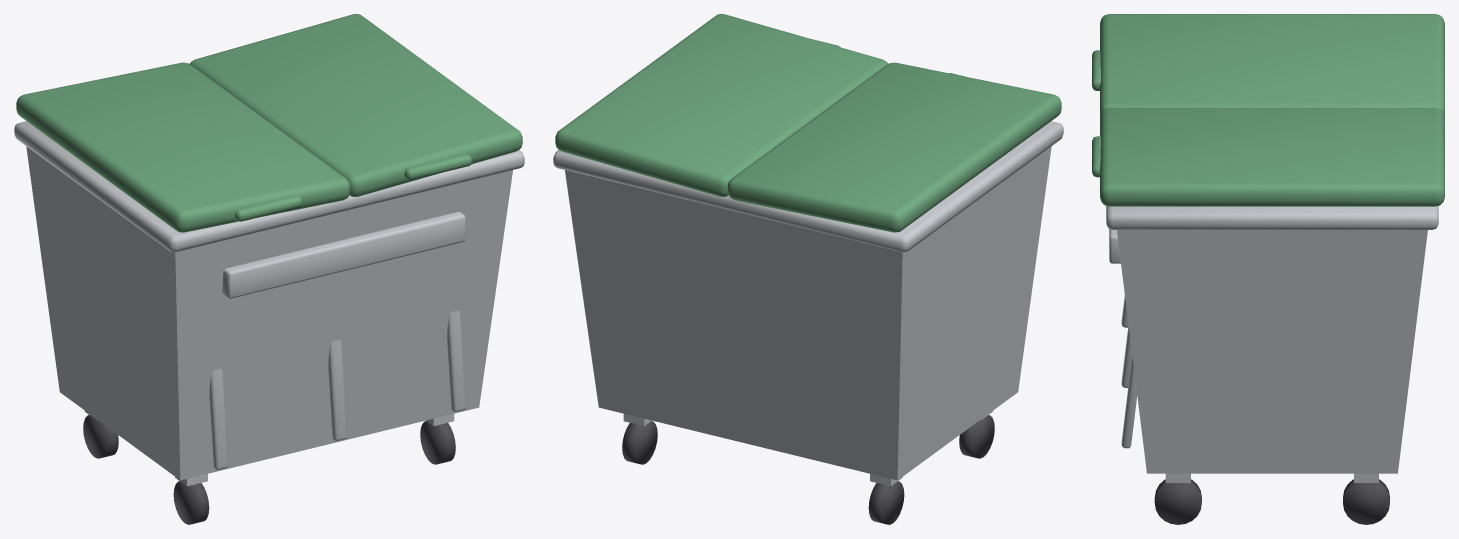
The model's file is dumpster.glb.
The picture shows the model from 3 angles, left to right: view 1: azimuth 30°, elevation 25°; view 2: azimuth 150°, elevation 25°; view 3: azimuth 270°, elevation 25°; orthographic projection. The views are drawn at different scales.
Visible parts, largest first — view 1: body, Cube.005, Cube.007, Cube, Cube.004, Cube.002, Cube.001, Cube.003, Cylinder.002, Cylinder, Cylinder.001, Cube.008 (+1 smaller); view 2: body, Cube.005, Cube.007, Cube, Cylinder.003, Cylinder.001, Cylinder; view 3: body, Cube.007, Cube.005, Cube, Cylinder.002, Cylinder.003, Cube.003.
Part boxes in pixels (x1,y1,x2,y2): body: [26, 146, 512, 480]; Cube.005: [16, 62, 350, 232]; Cube.007: [190, 14, 522, 196]; Cube: [14, 121, 524, 252]; Cube.004: [222, 211, 465, 298]; Cube.002: [328, 339, 347, 440]; Cube.001: [209, 368, 228, 469]; Cube.003: [447, 310, 465, 411]; Cylinder.002: [420, 421, 455, 464]; Cylinder: [173, 481, 209, 524]; Cylinder.001: [83, 415, 118, 458]; Cube.008: [404, 154, 471, 179]; body: [565, 146, 1051, 480]; Cube.005: [727, 62, 1061, 232]; Cube.007: [555, 14, 887, 196]; Cube: [553, 121, 1063, 252]; Cylinder.003: [622, 421, 657, 464]; Cylinder.001: [868, 481, 904, 524]; Cylinder: [959, 415, 994, 458]; body: [1117, 230, 1427, 473]; Cube.007: [1100, 108, 1444, 206]; Cube.005: [1100, 14, 1444, 116]; Cube: [1106, 206, 1438, 229]; Cylinder.002: [1154, 479, 1201, 524]; Cylinder.003: [1343, 479, 1389, 524]; Cube.003: [1121, 355, 1137, 448].
Bounding box in the file's own units: 1.36 × 1.27 × 1.12.
